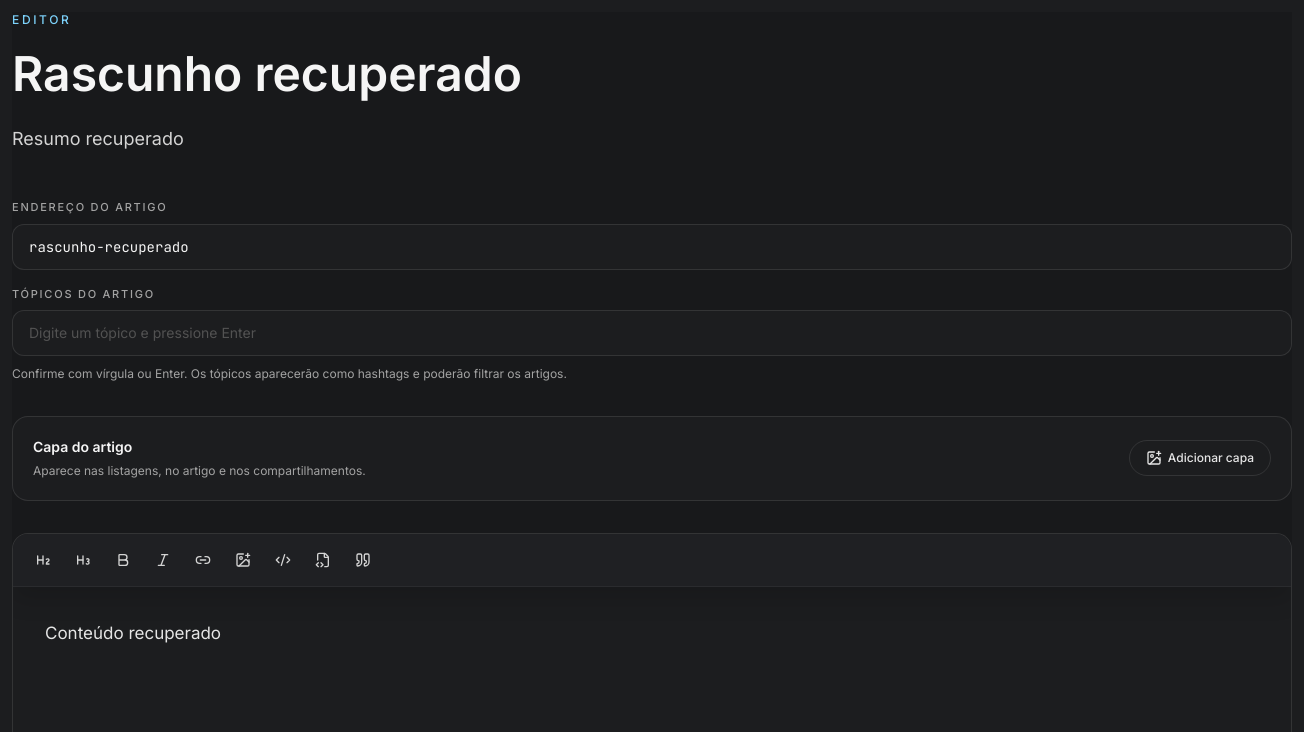
Test: autosave do rascunho administrativo › associa o conflito de slug ao campo de endereço sem descartar o rascunho
The image size is (1304, 732).
Replace the text in the field labelled "Endereço do artigo" with "endereco-repetido": {"x": 652, "y": 246} left=12, top=224, right=1292, bottom=270
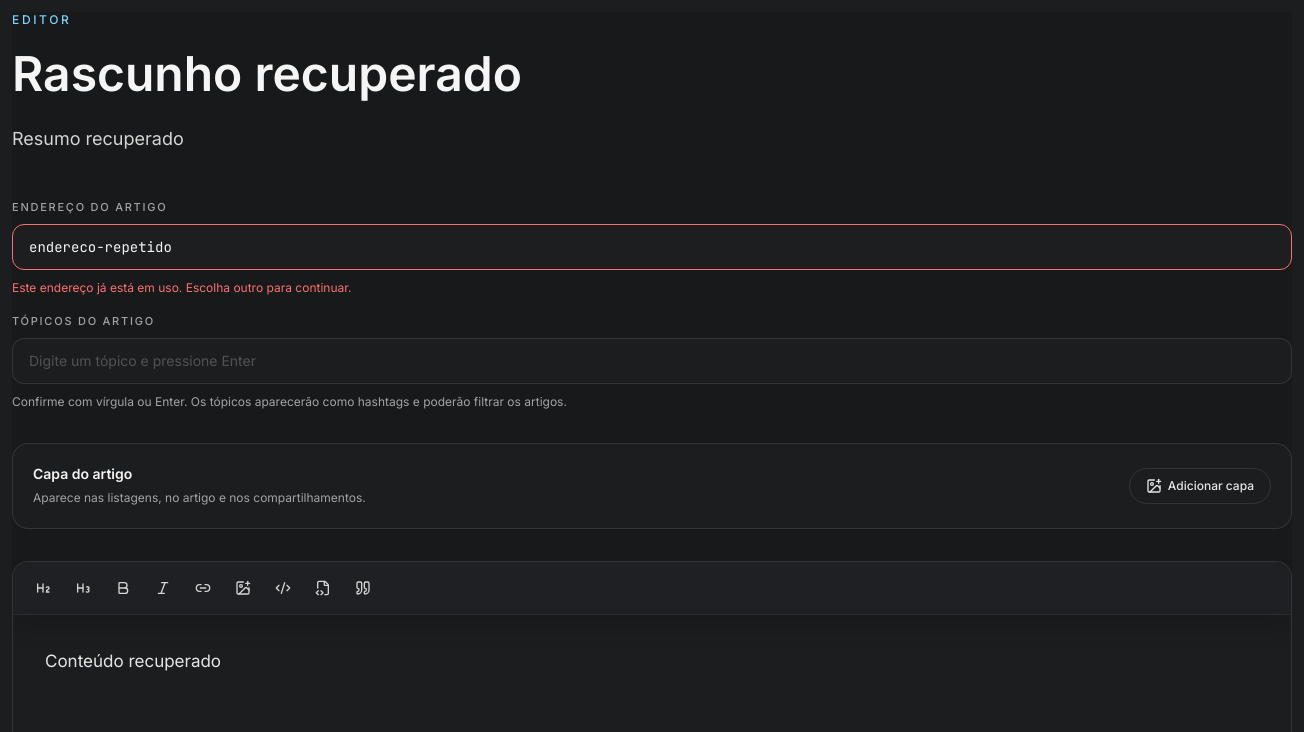
Expected: the text "Este endereço já está em uso. Escolha outro para continuar." is shown, left=12, top=280, right=352, bottom=294
